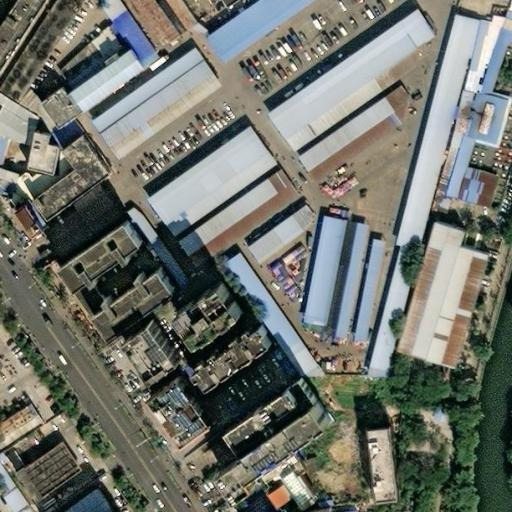building: (260, 8, 433, 140), (391, 12, 472, 251), (86, 48, 216, 159), (142, 126, 272, 235), (281, 49, 419, 148), (168, 168, 293, 266), (393, 220, 468, 360), (213, 405, 324, 497), (294, 96, 398, 181), (220, 252, 298, 354), (425, 247, 489, 369), (167, 328, 260, 405), (203, 0, 308, 64), (33, 138, 112, 221), (362, 246, 411, 378), (53, 221, 137, 290), (90, 271, 172, 338), (297, 214, 341, 329), (69, 50, 146, 114), (137, 382, 203, 455), (177, 292, 247, 360), (122, 207, 182, 284), (240, 204, 311, 262), (327, 223, 362, 337), (423, 126, 465, 215), (347, 238, 380, 343), (445, 82, 505, 139), (456, 16, 501, 89), (127, 332, 180, 390), (17, 444, 74, 497), (252, 385, 306, 435), (51, 277, 96, 332), (119, 0, 171, 47), (219, 411, 269, 458), (375, 431, 406, 504), (70, 187, 118, 234), (50, 40, 97, 87), (448, 163, 493, 209), (38, 88, 82, 128), (0, 403, 36, 445), (80, 21, 118, 59), (53, 486, 107, 512), (21, 128, 52, 171), (159, 0, 195, 32), (319, 283, 336, 334), (295, 480, 322, 510), (380, 85, 403, 119), (285, 348, 310, 375), (22, 210, 47, 237), (278, 486, 303, 512), (497, 20, 512, 41), (0, 169, 14, 191), (379, 359, 392, 378), (483, 11, 503, 23), (496, 8, 512, 18), (501, 0, 512, 11), (324, 508, 349, 512)
